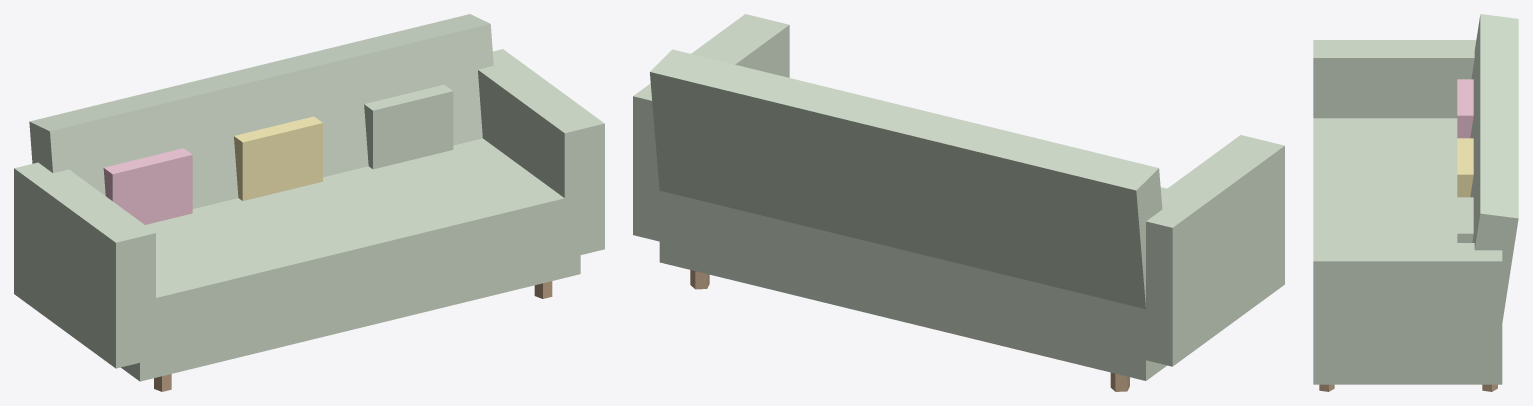
File: sofa.glb
The picture shows the model from 3 angles, left to right: view 1: azimuth 30°, elevation 25°; view 2: azimuth 150°, elevation 25°; view 3: azimuth 270°, elevation 25°; orthographic projection. The views are drawn at different scales.
Visible parts, largest first — view 1: Sofa; view 2: Sofa; view 3: Sofa.
Part boxes in pixels (<box>): Sofa: <box>14,14,604,391</box>; Sofa: <box>633,14,1284,391</box>; Sofa: <box>1313,14,1518,391</box>.
Size of the model in its own units: 2.44 by 0.9692 by 0.9564.
